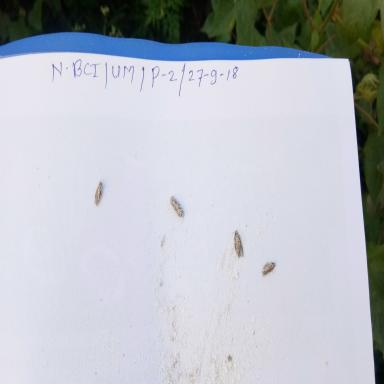pbw: (168, 194, 186, 225), (230, 229, 245, 261), (92, 177, 106, 207), (261, 260, 277, 278)
